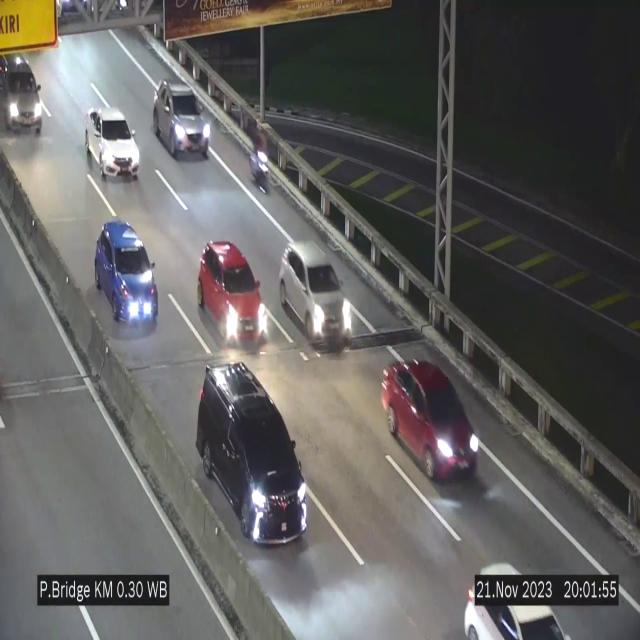Car: (200, 357, 314, 553), (381, 360, 482, 480), (452, 560, 566, 640), (198, 239, 272, 355), (279, 241, 351, 345), (94, 220, 158, 326), (0, 46, 54, 149), (153, 83, 209, 158), (86, 106, 140, 180)
Motorcycle: (249, 129, 272, 200)
